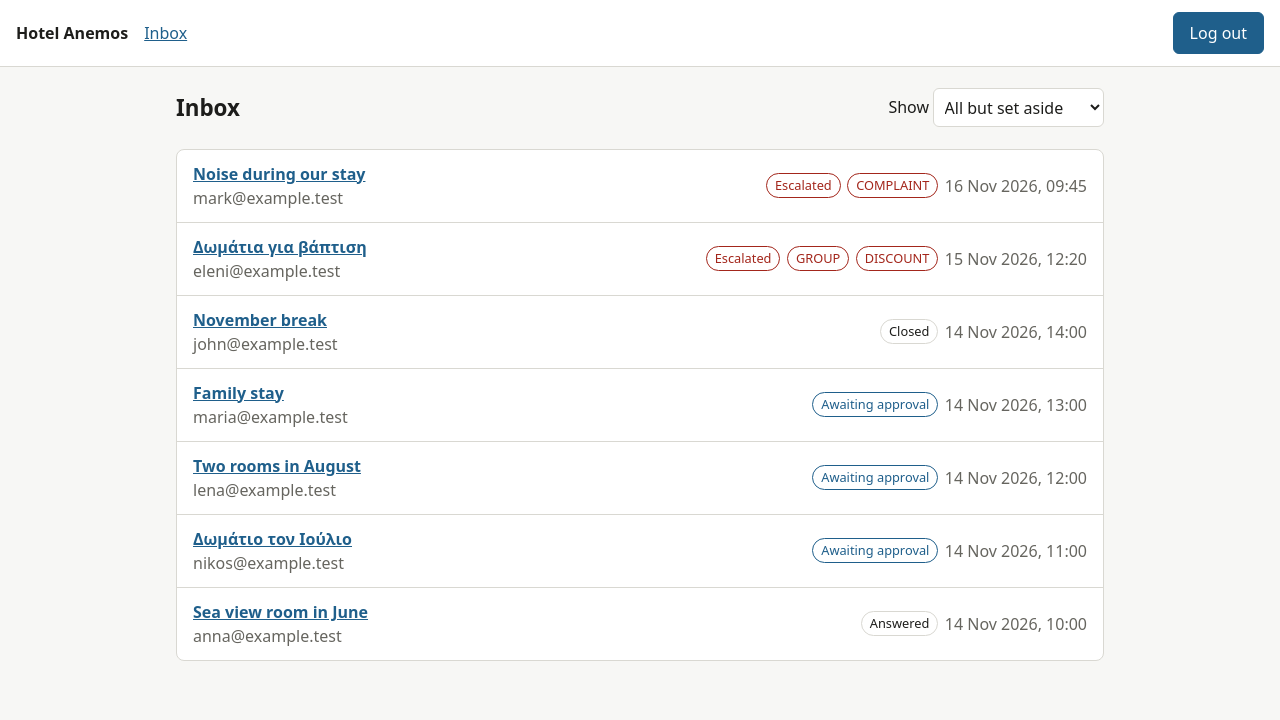
Test: App › logs out back to the login screen
Click the button "Log out".
click(1218, 33)  # box x1=1173 y1=12 x2=1264 y2=54
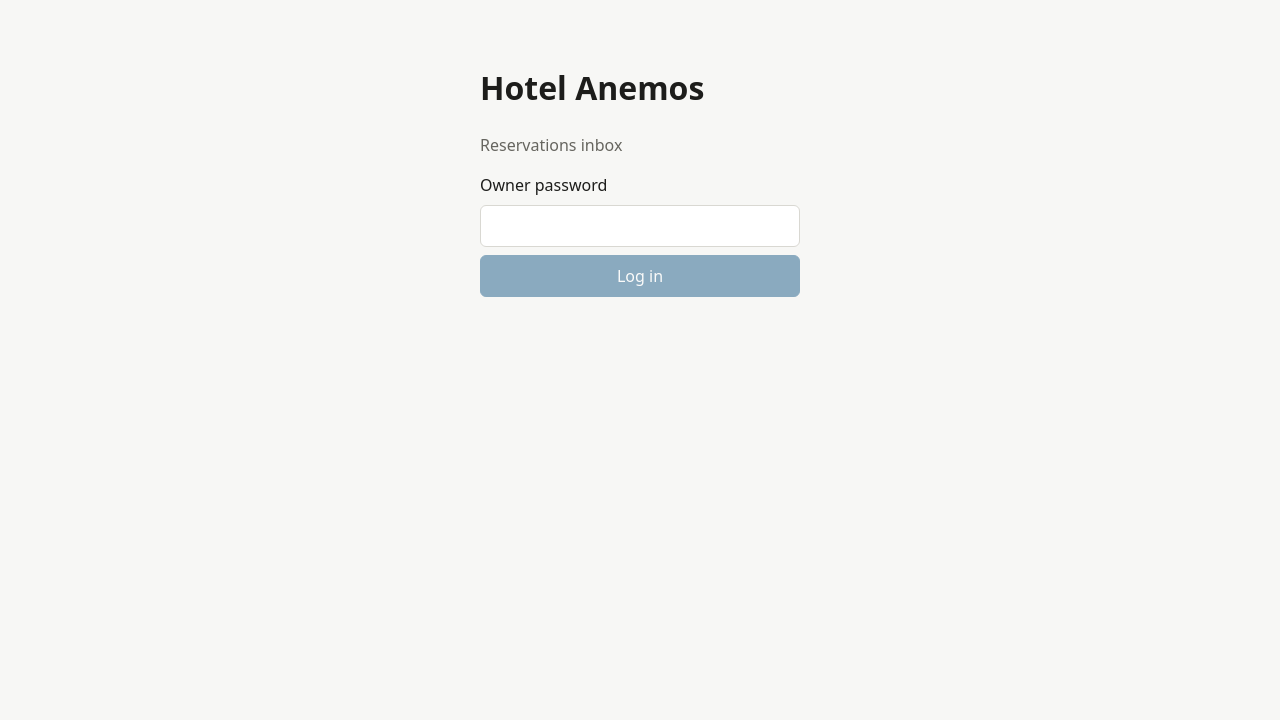
Check: the password field labelled "Owner password" is shown, box x1=480 y1=205 x2=800 y2=247
